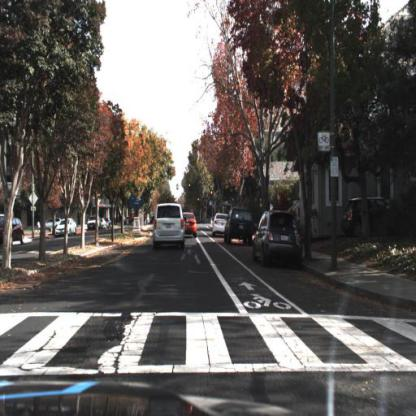car: (251, 207, 306, 271), (340, 194, 394, 239), (150, 199, 187, 251), (221, 206, 256, 248), (1, 218, 26, 248), (184, 207, 202, 243), (54, 215, 77, 241), (210, 210, 228, 239), (85, 211, 101, 235), (128, 211, 149, 229), (42, 216, 60, 234)
trafficLight-Red: (188, 183, 192, 195), (198, 197, 202, 209), (210, 191, 214, 203)
